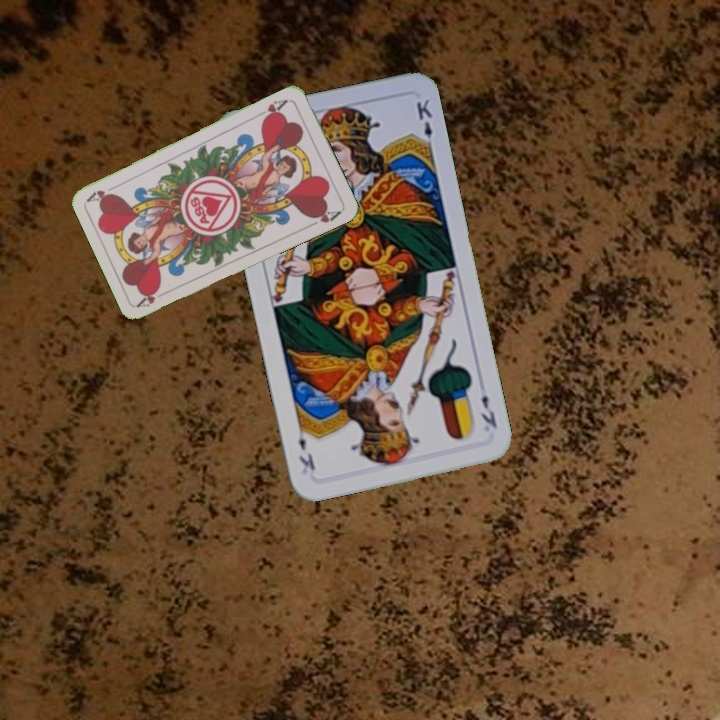EK: (477, 390, 500, 431)
HA: (254, 95, 291, 123), (134, 283, 163, 310)
